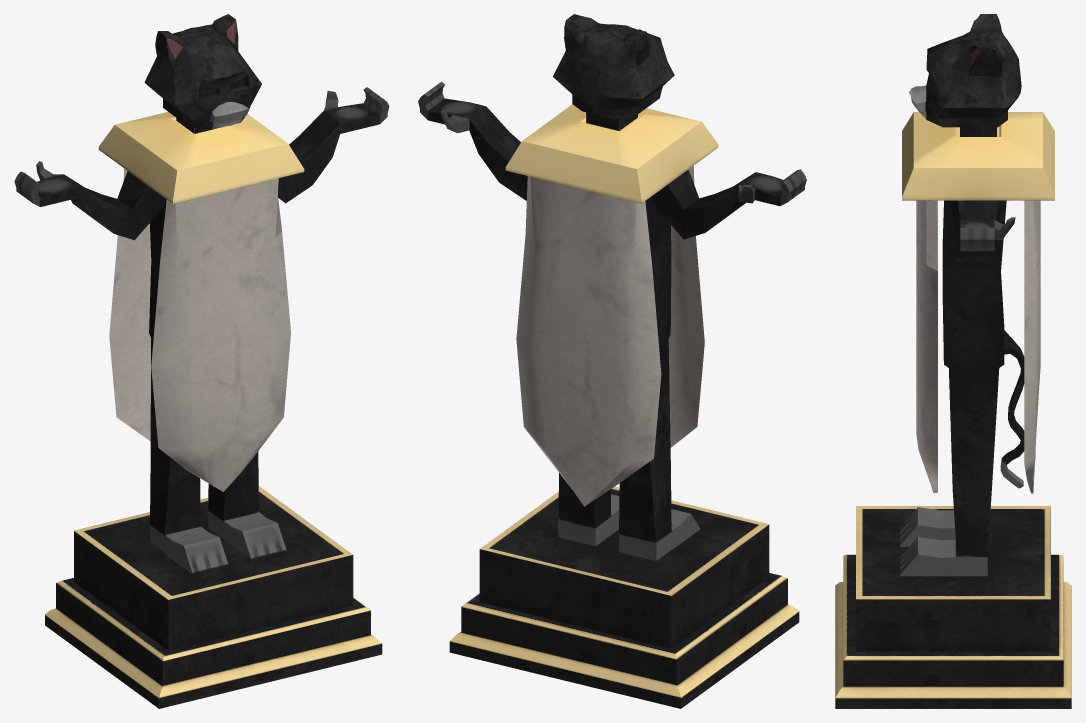
File: Statue_Final.fbx
3 views of the same model, side by side, from view 1: azimuth 30°, elevation 25°; view 2: azimuth 150°, elevation 25°; view 3: azimuth 270°, elevation 25° (orthographic). The views are drawn at different scales.
Visible parts, largest first — view 1: pCube14; view 2: pCube14; view 3: pCube14.
Boxes of the visible parts, x1,y1,x2,y2 form: pCube14: (14, 14, 389, 708); pCube14: (418, 14, 806, 708); pCube14: (835, 14, 1071, 708).
Size of the model in its own units: 28.93 by 46.42 by 15.97.
1 material, 1 textured.
